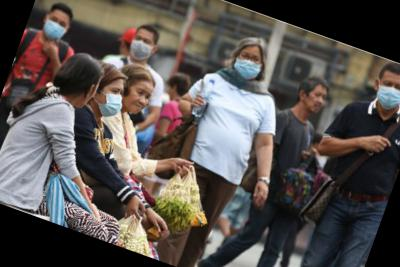with_mask: (94, 81, 129, 123), (232, 49, 267, 85), (372, 75, 400, 117), (40, 14, 71, 46), (127, 33, 158, 65)
without_mask: (119, 83, 154, 119), (300, 86, 330, 116)
